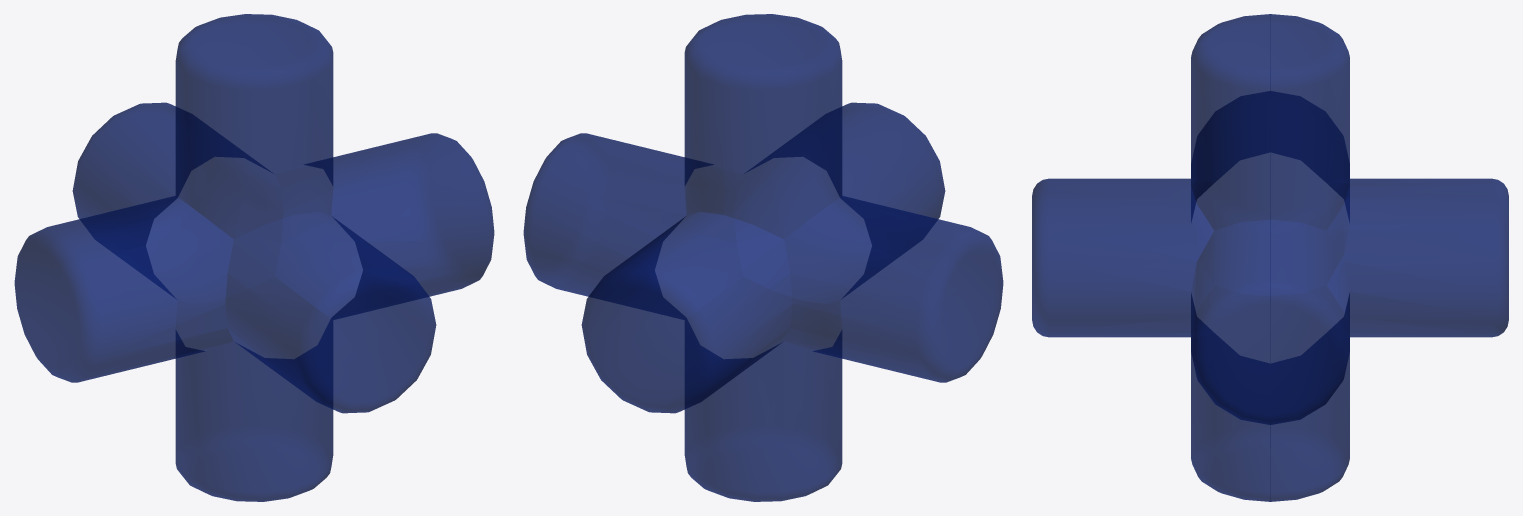
The model's file is pipe.glb.
3 renders of one model, left to right at view 1: azimuth 30°, elevation 25°; view 2: azimuth 150°, elevation 25°; view 3: azimuth 270°, elevation 25°, orthographic.
Visible parts, largest first — view 1: Cross Joint; view 2: Cross Joint; view 3: Cross Joint.
Boxes of the visible parts, x1,y1,x2,y2 form: Cross Joint: (14, 14, 494, 501); Cross Joint: (523, 14, 1003, 501); Cross Joint: (1032, 14, 1508, 501).
Bounding box in the file's own units: 6 × 6 × 6.
